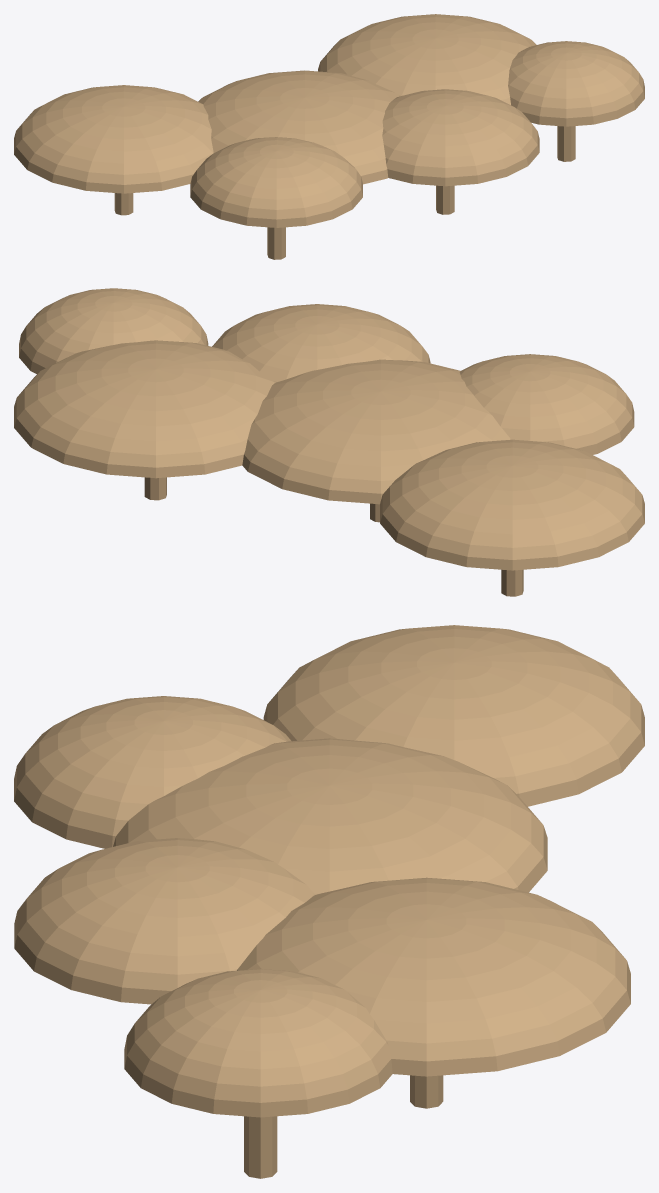
Rendered from setas.glb.
3 views of the same model, one above another, from view 1: azimuth 30°, elevation 25°; view 2: azimuth 150°, elevation 25°; view 3: azimuth 270°, elevation 25° (orthographic). The views are drawn at different scales.
Size of the model in its own units: 160 by 29 by 91.24.
